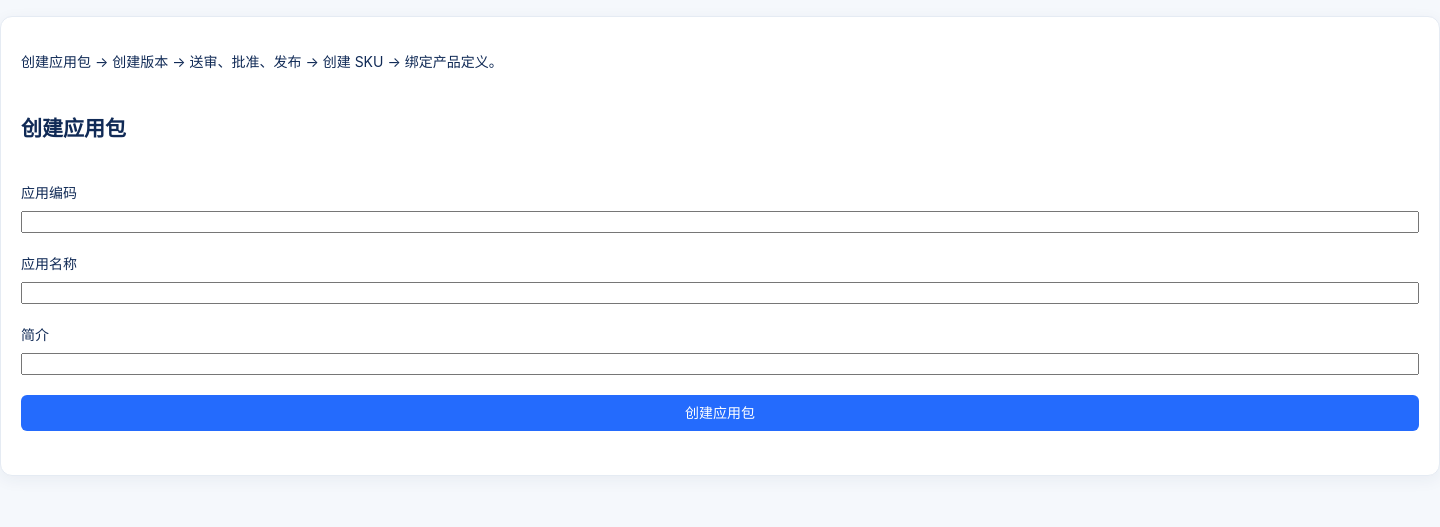
Test: platform authoring › keeps input and error without reporting saved on rejection
The image size is (1440, 527).
Type "expense" into the field labelled "应用编码" at (720, 222), box left=21, top=211, right=1419, bottom=233
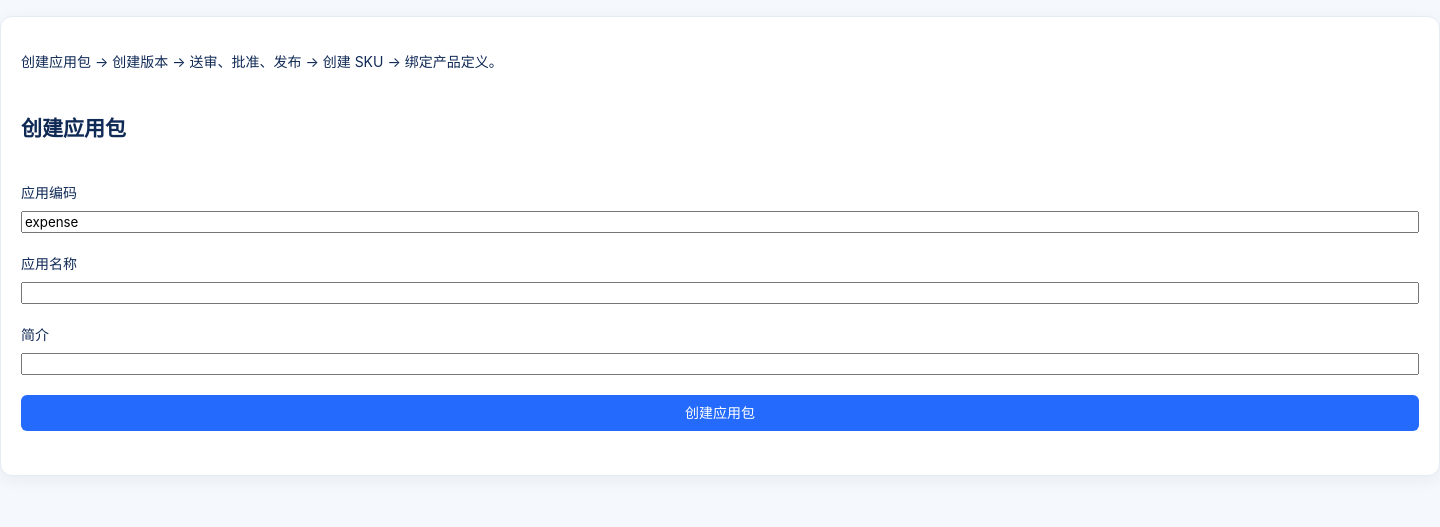
Submit the form
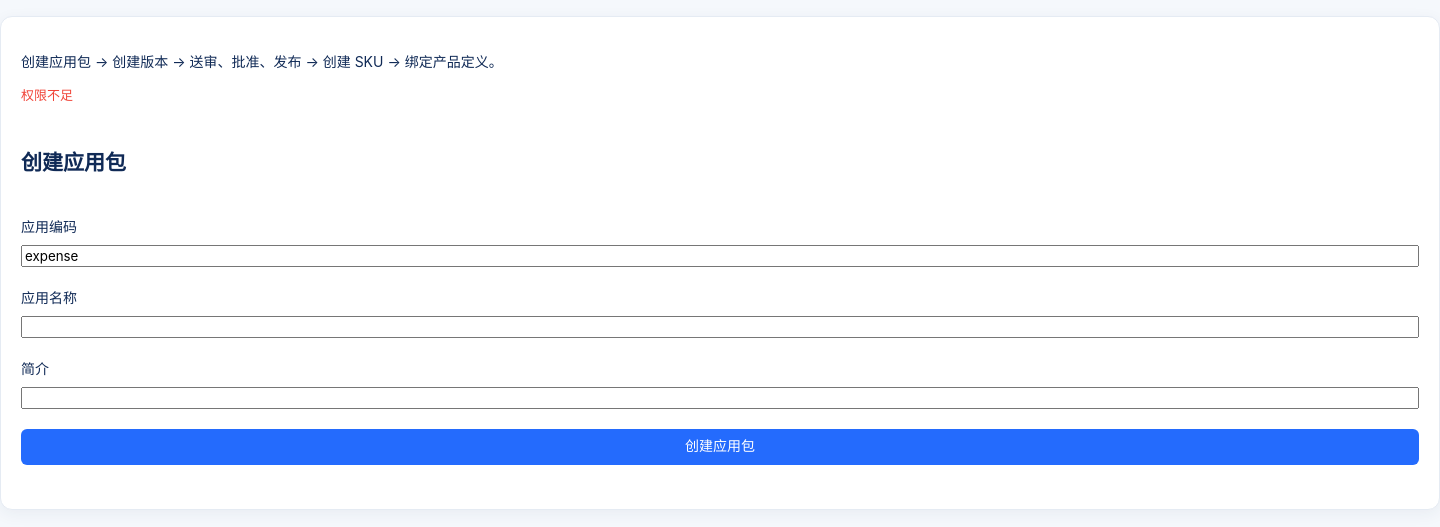
Now the message "权限不足" is shown, box left=21, top=87, right=73, bottom=103
